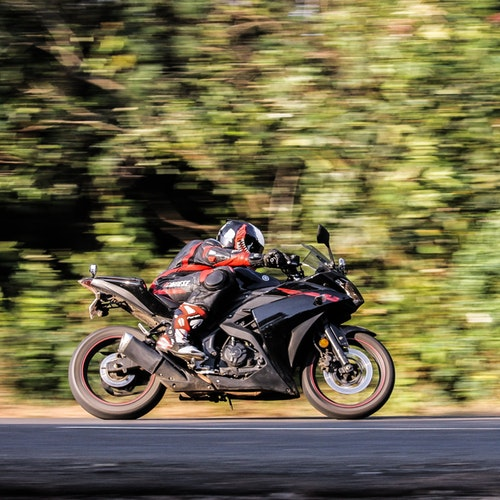helmet: (216, 217, 266, 254)
